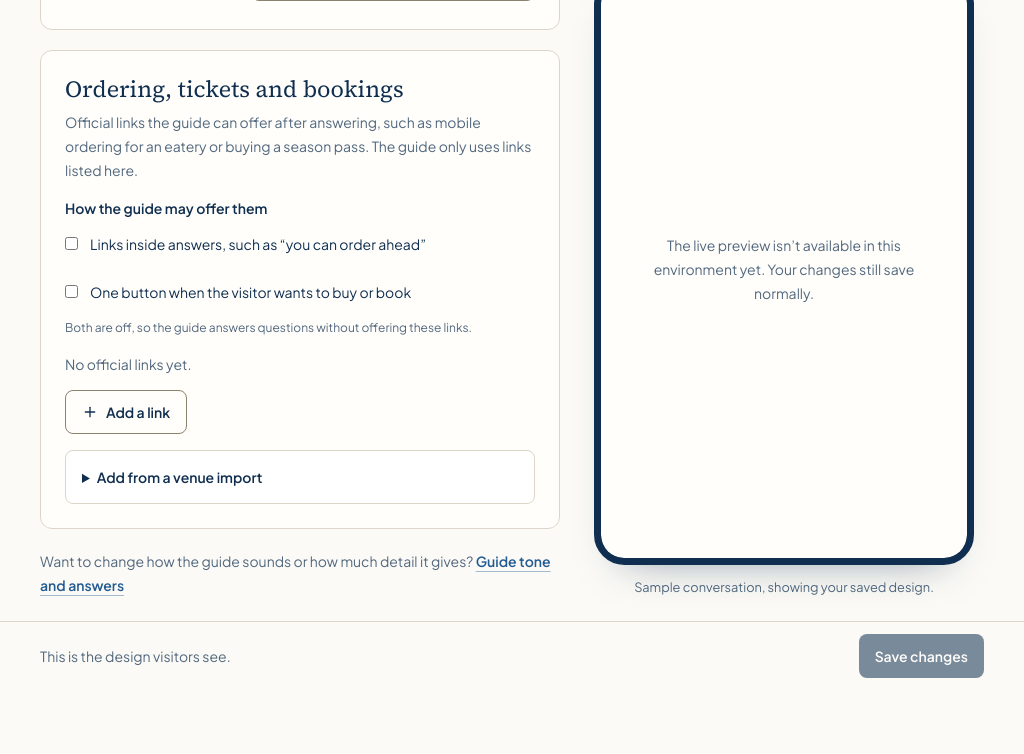
it: Look & feel › refuses an unsafe link before saving
(page scrolled)
Click the button "Add a link" at (126, 412), box [65,390,187,434]
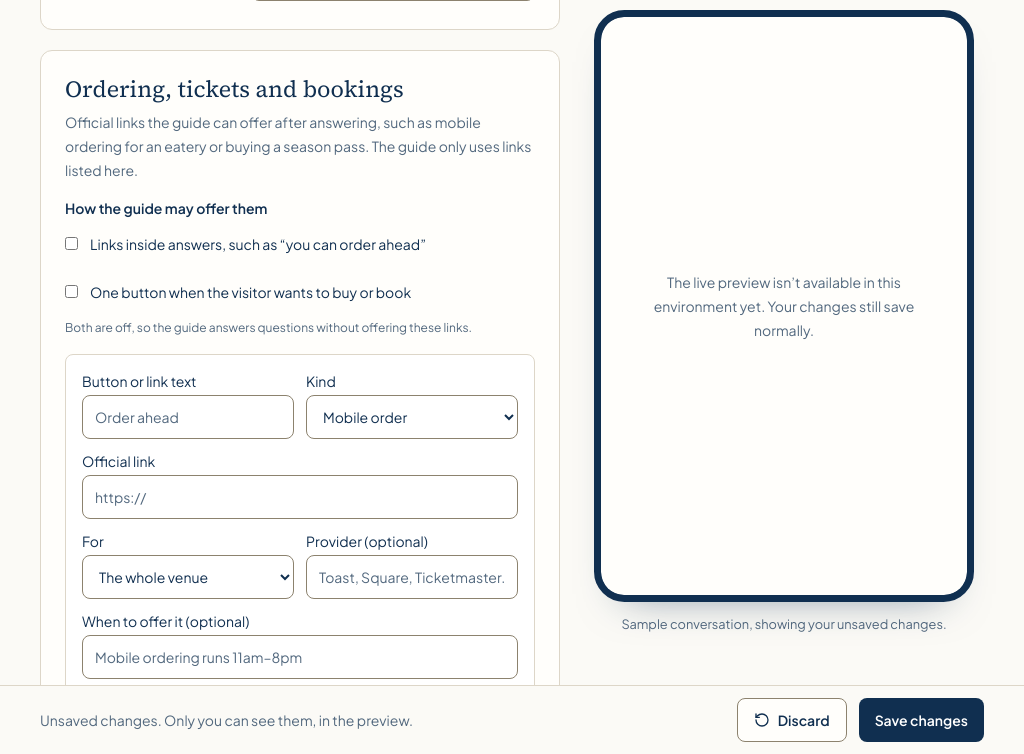
Type "Buy tickets" into the field labelled "Button or link text" at (188, 417), box [82,395,294,439]
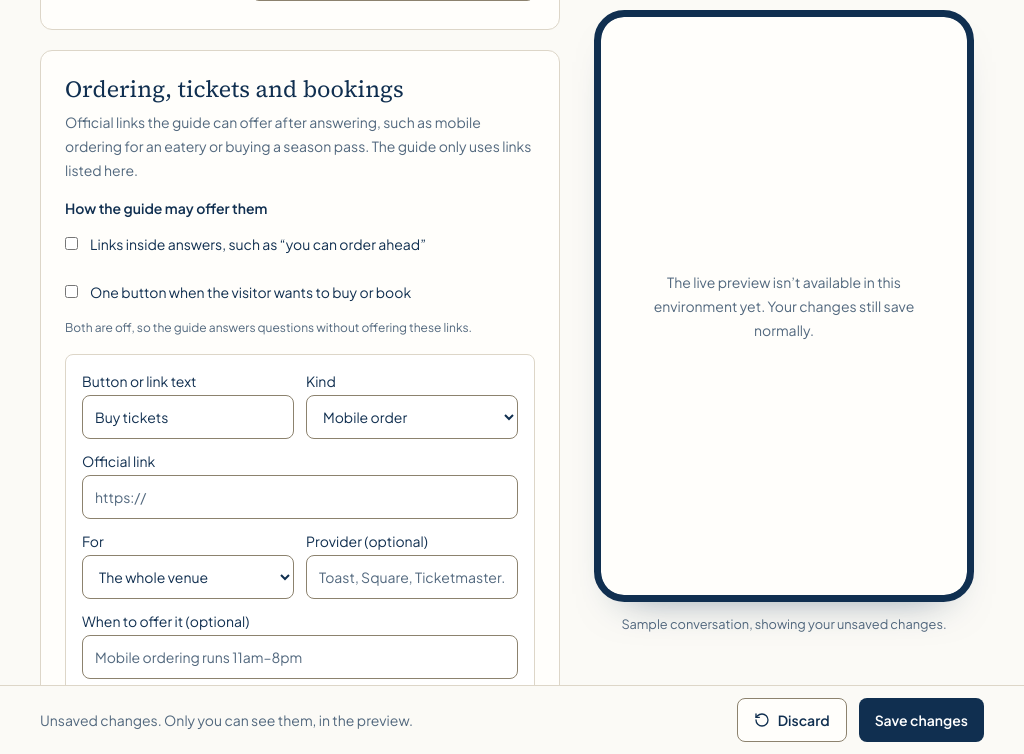
Type "http://tickets.example.com/?token=abc" into the field labelled "Official link" at (300, 497), box [82,475,518,519]
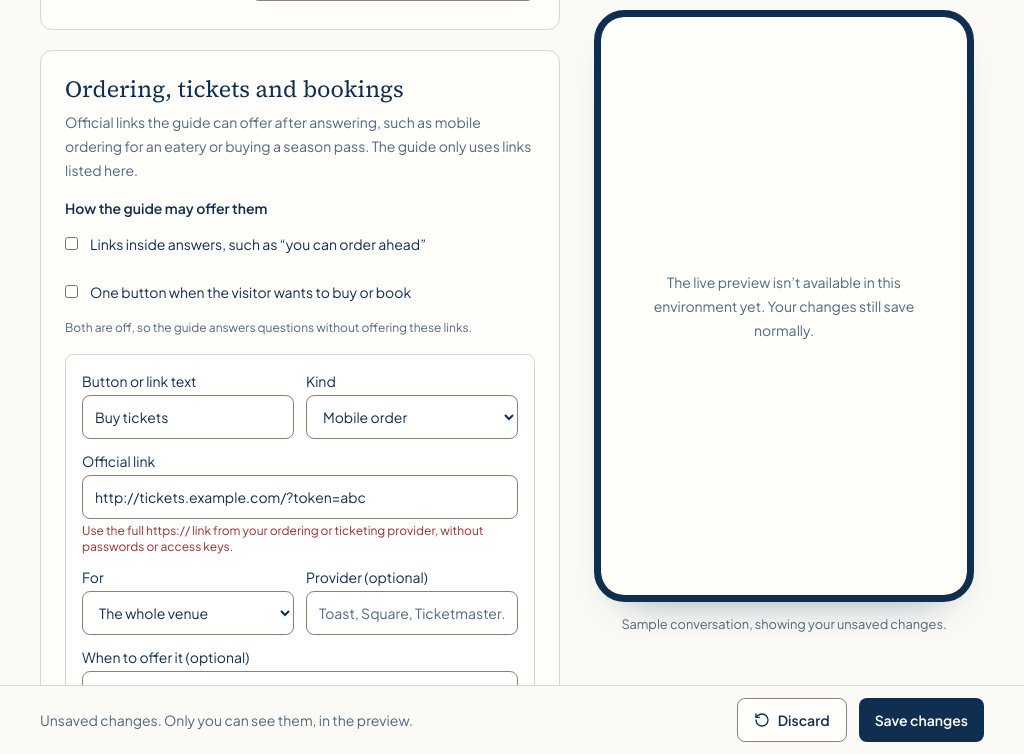
expect the text "Use the full https:// link" is shown: met, box [82,523,484,554]
Click the button "Save changes" at (921, 720), box [859,698,984,742]
(page scrolled)
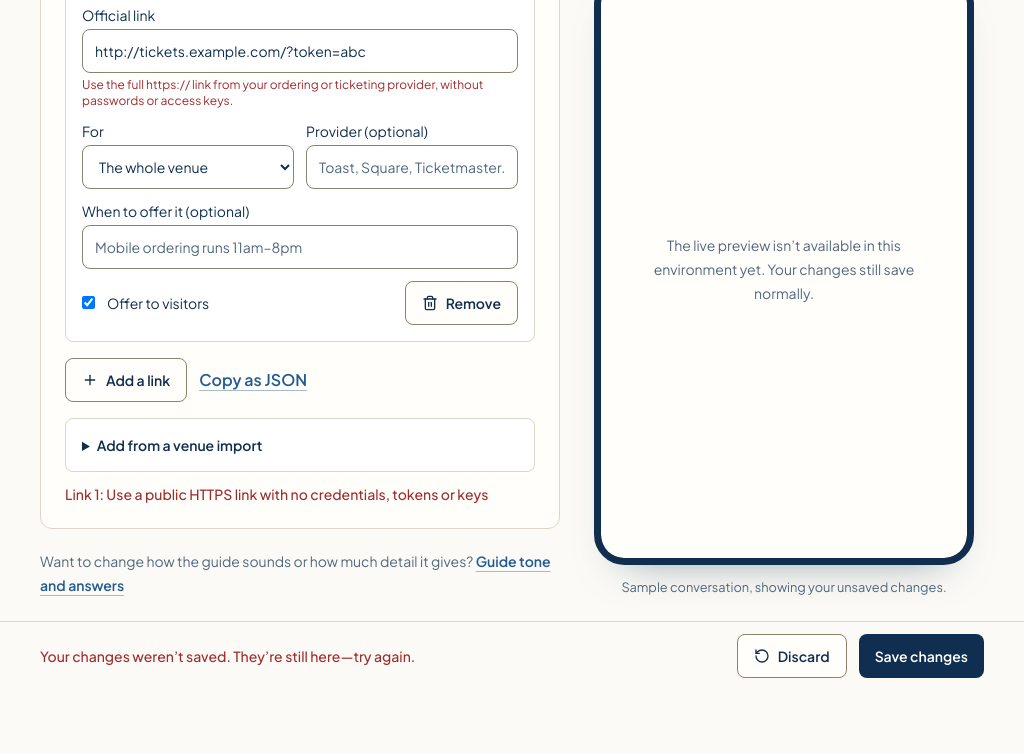
expect the text "Link 1: Use a public HTTPS link with no credentials, tokens or keys" is shown: met, box [65,484,535,504]
